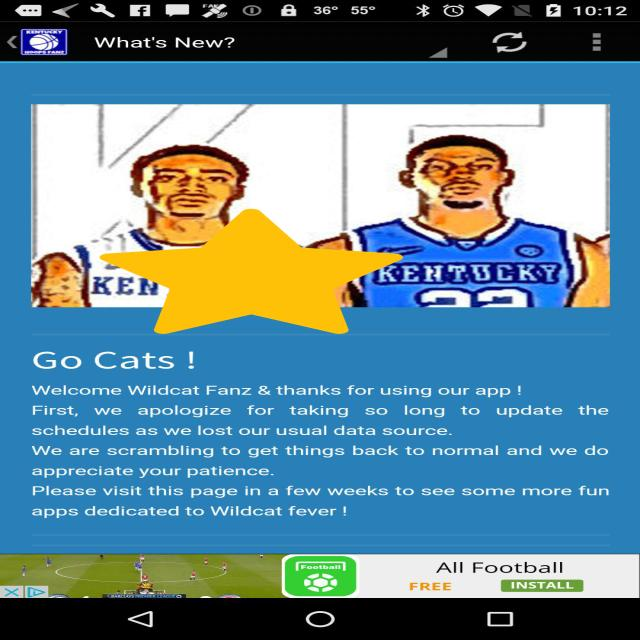forced continuity: (100, 209, 403, 334)
